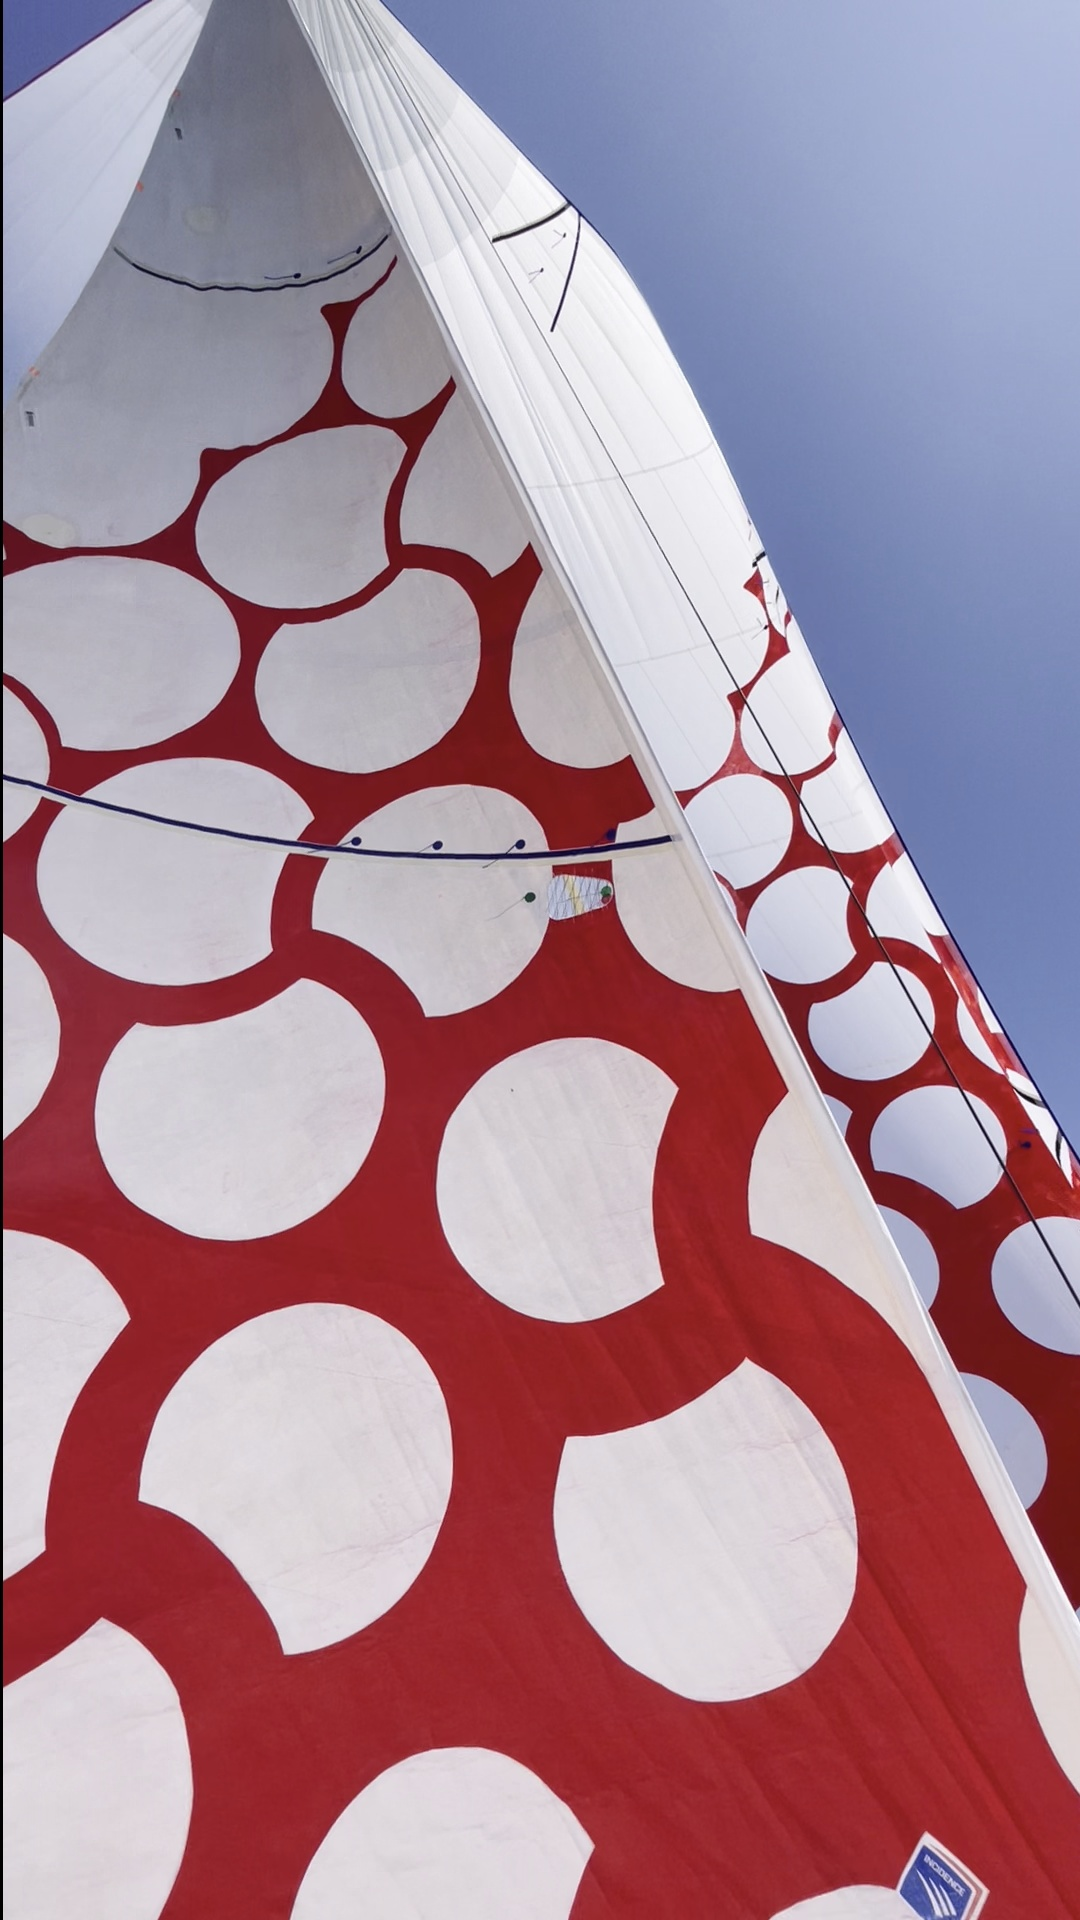pennon_attached: (560, 815, 636, 862), (286, 831, 371, 868), (472, 890, 543, 931), (476, 832, 533, 880), (385, 839, 446, 876), (315, 237, 373, 274), (547, 886, 616, 910), (255, 270, 302, 294), (749, 620, 773, 642)
pennon_detached: (520, 260, 549, 278), (545, 225, 571, 240)
